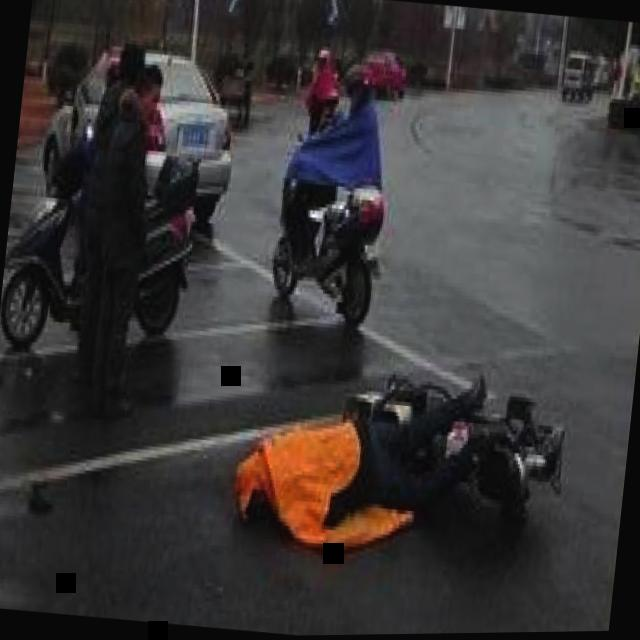Fall-Detected: (225, 325, 498, 569)
